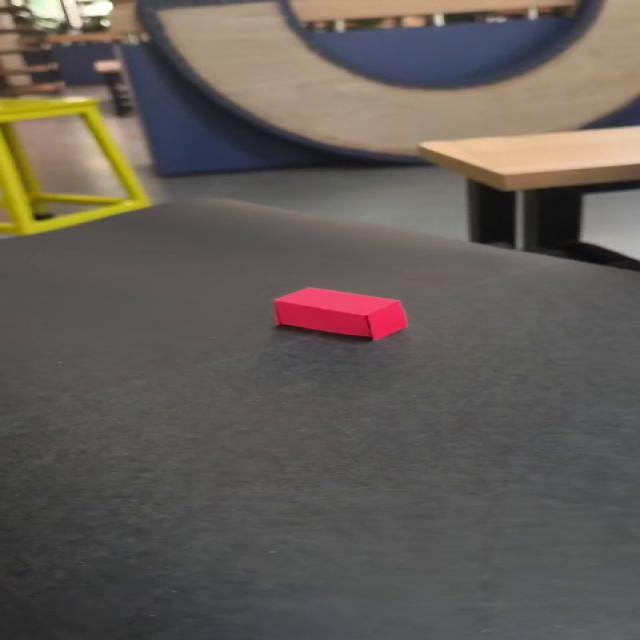red block: (272, 286, 408, 341)
